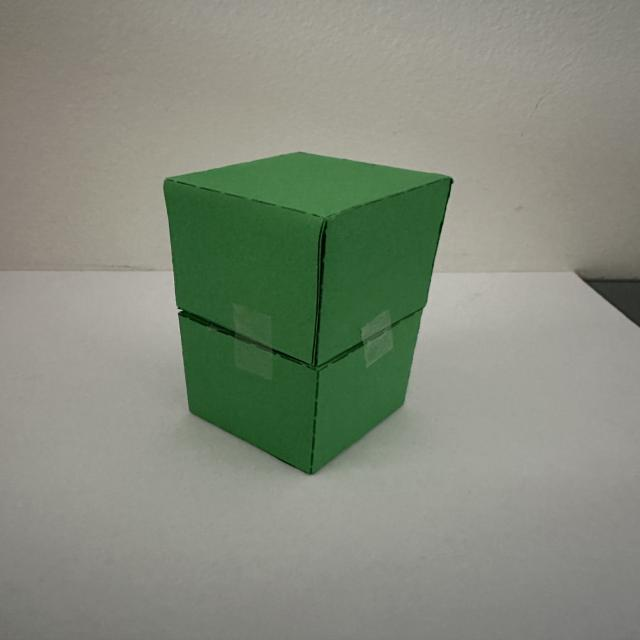green_cube: (142, 139, 471, 484)
